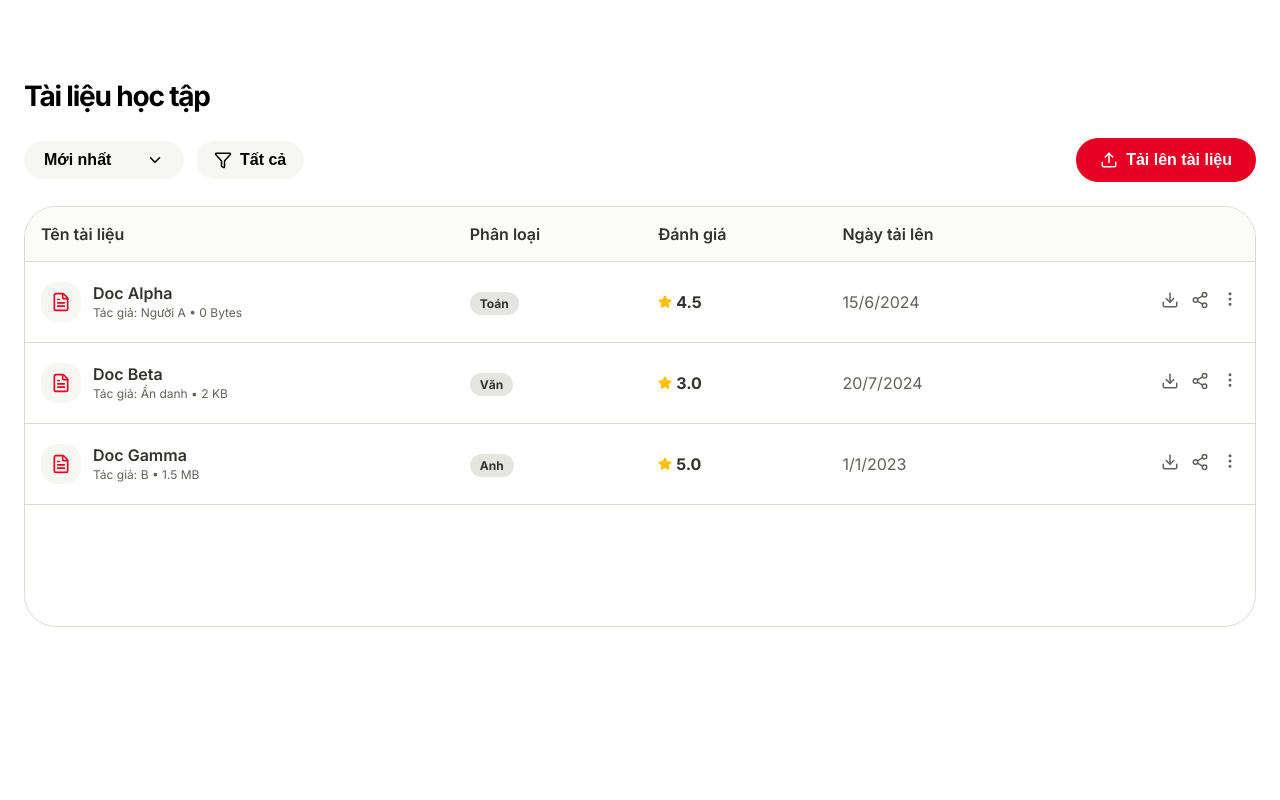
StudyDocs › clicking_row_title_opens_detail_modal
The image size is (1280, 800).
Click the text "Doc Alpha" at {"x": 133, "y": 293}, box [93,283,172,303]
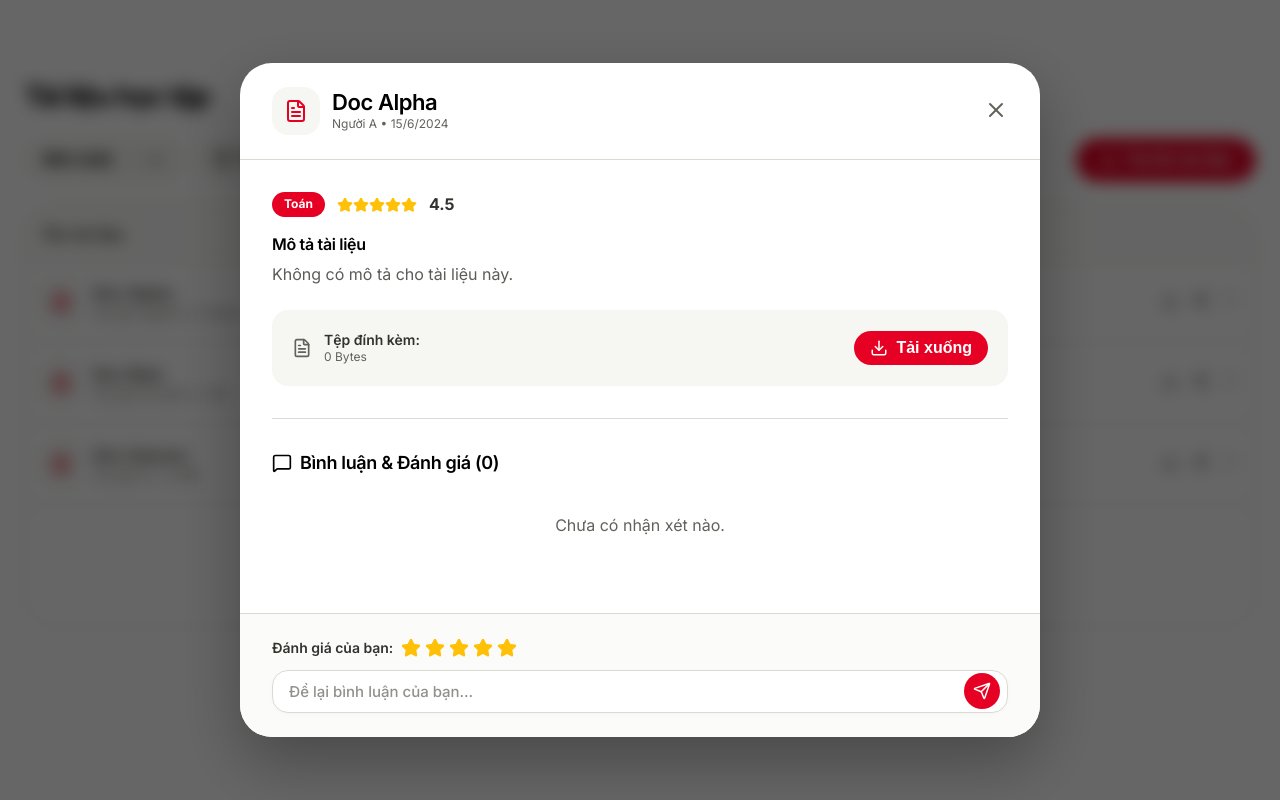
Check: the heading "Doc Alpha" is shown, box [332,89,448,116]
